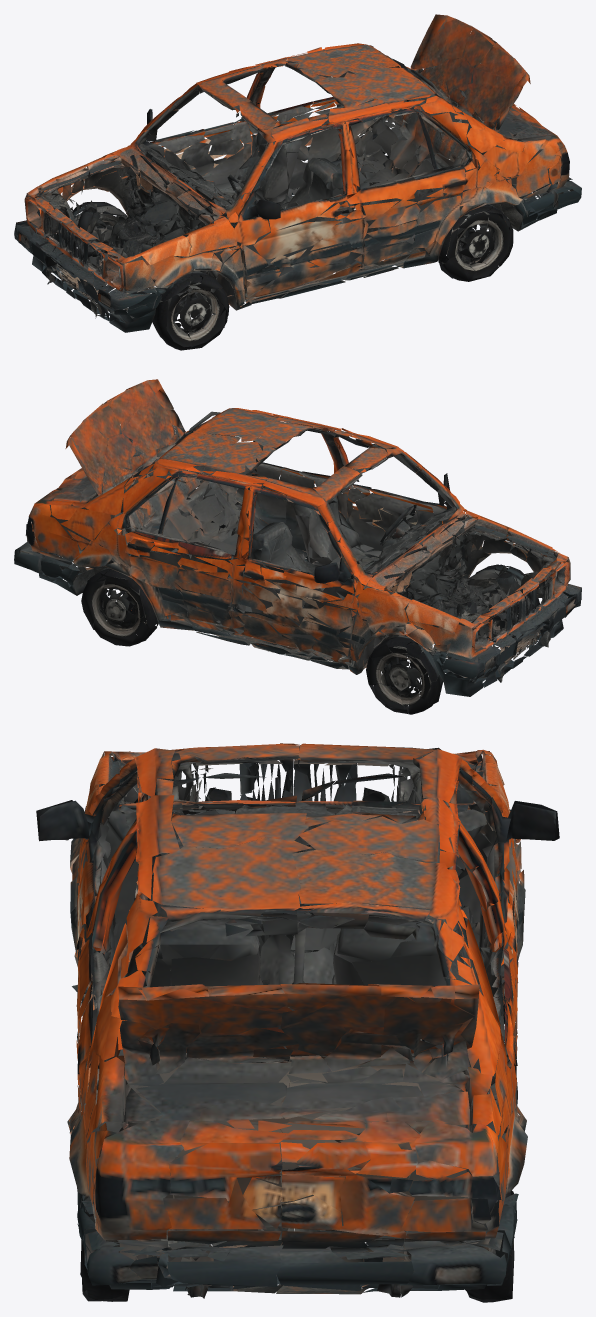
File: arac_enkazi.glb
3 renders of one model, top to bottom at view 1: azimuth 30°, elevation 25°; view 2: azimuth 150°, elevation 25°; view 3: azimuth 270°, elevation 25°, orthographic. The views are drawn at different scales.
Visible parts, largest first — view 1: arac_enkazi; view 2: arac_enkazi; view 3: arac_enkazi.
Boxes of the visible parts, x1=… form: arac_enkazi: x1=14, y1=14, x2=581, y2=350; arac_enkazi: x1=14, y1=379, x2=581, y2=714; arac_enkazi: x1=36, y1=743, x2=559, y2=1302.
Size of the model in its own units: 4.2 by 1.6 by 2.02.
Materials: 1 (1 with a texture image).
